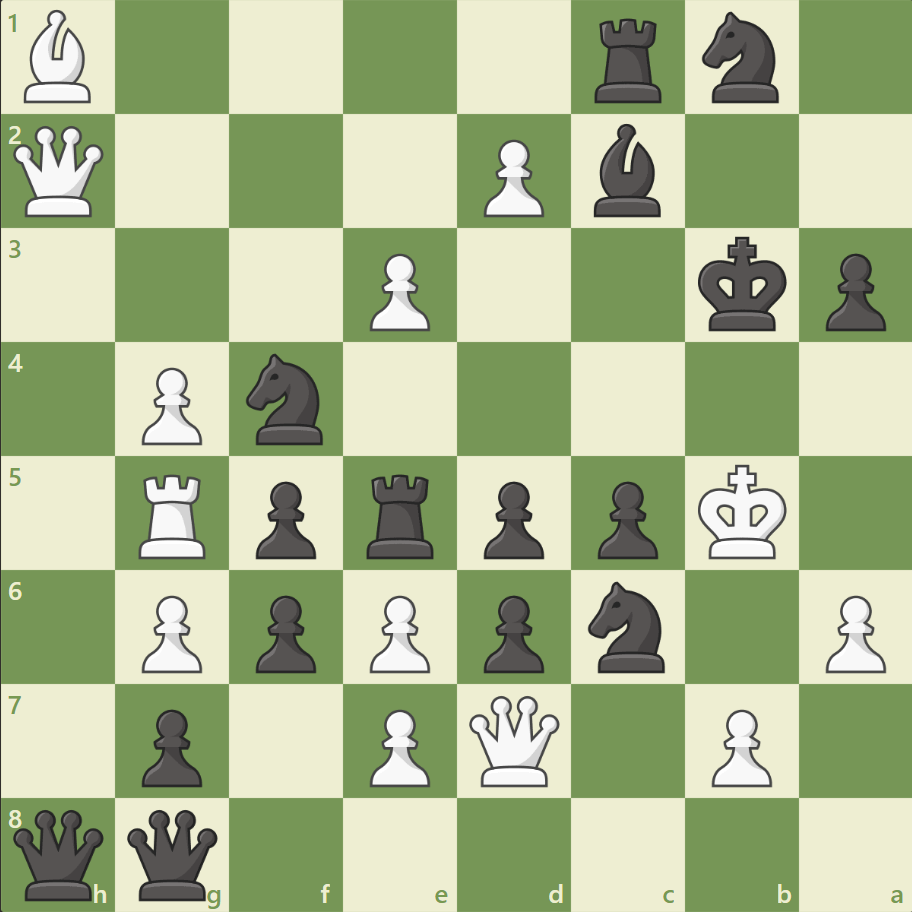B: (17, 6, 101, 109)
K: (692, 458, 792, 566)
P: (701, 700, 776, 791), (133, 586, 208, 677), (133, 359, 208, 450), (474, 132, 549, 223), (361, 700, 435, 791), (815, 586, 889, 677), (361, 586, 435, 677), (361, 246, 435, 337)
Q: (10, 122, 109, 222), (464, 690, 563, 789)
R: (133, 466, 215, 563)
b: (585, 120, 669, 222)
k: (692, 231, 792, 339)
n: (692, 7, 789, 110), (579, 575, 676, 677), (238, 348, 335, 450)
p: (133, 700, 208, 791), (474, 586, 549, 677), (247, 586, 322, 677), (474, 473, 549, 564), (247, 473, 322, 564), (588, 473, 662, 564), (815, 246, 889, 337)
q: (124, 804, 223, 903), (10, 804, 109, 903)
r: (587, 12, 670, 109), (360, 466, 442, 563)
